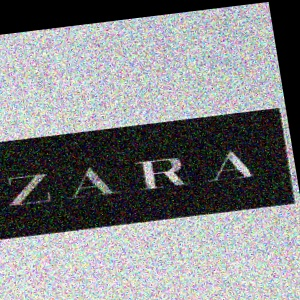zara: (229, 73, 283, 213)
